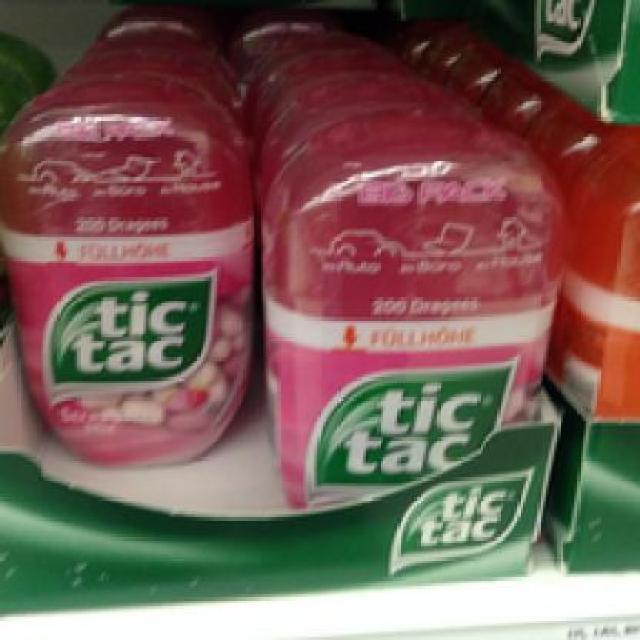Candy: (233, 106, 570, 534), (6, 77, 246, 466)
